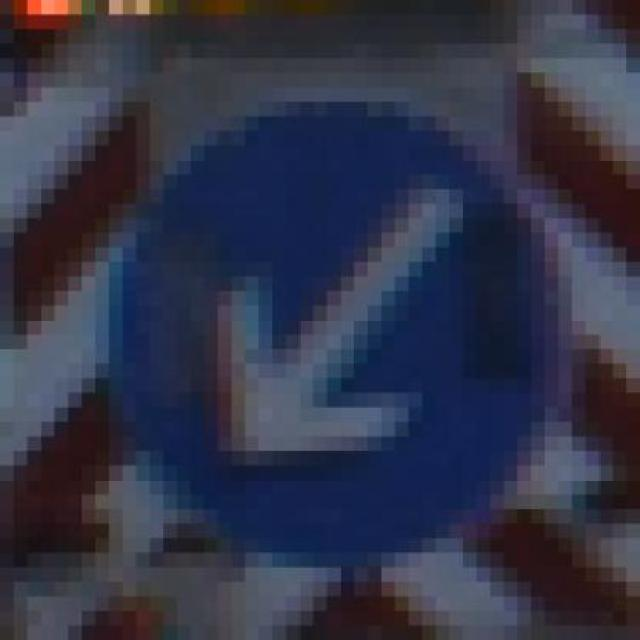Keep-Left: (95, 101, 572, 582)
